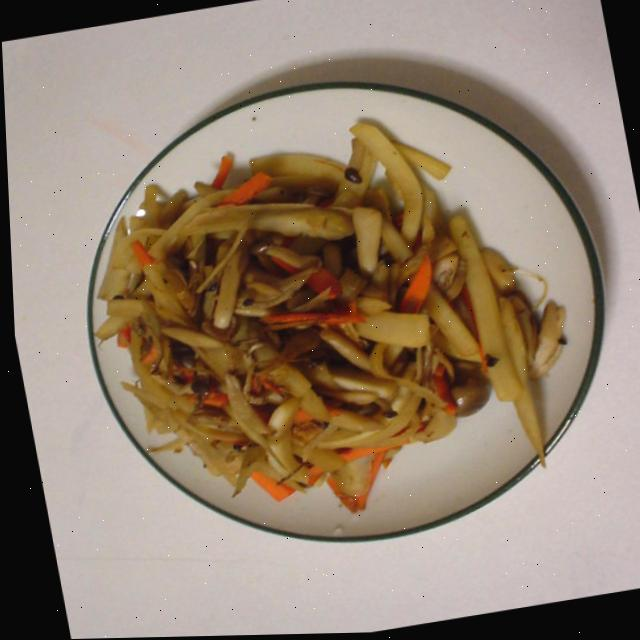蔬菜料理: (53, 55, 604, 577)
